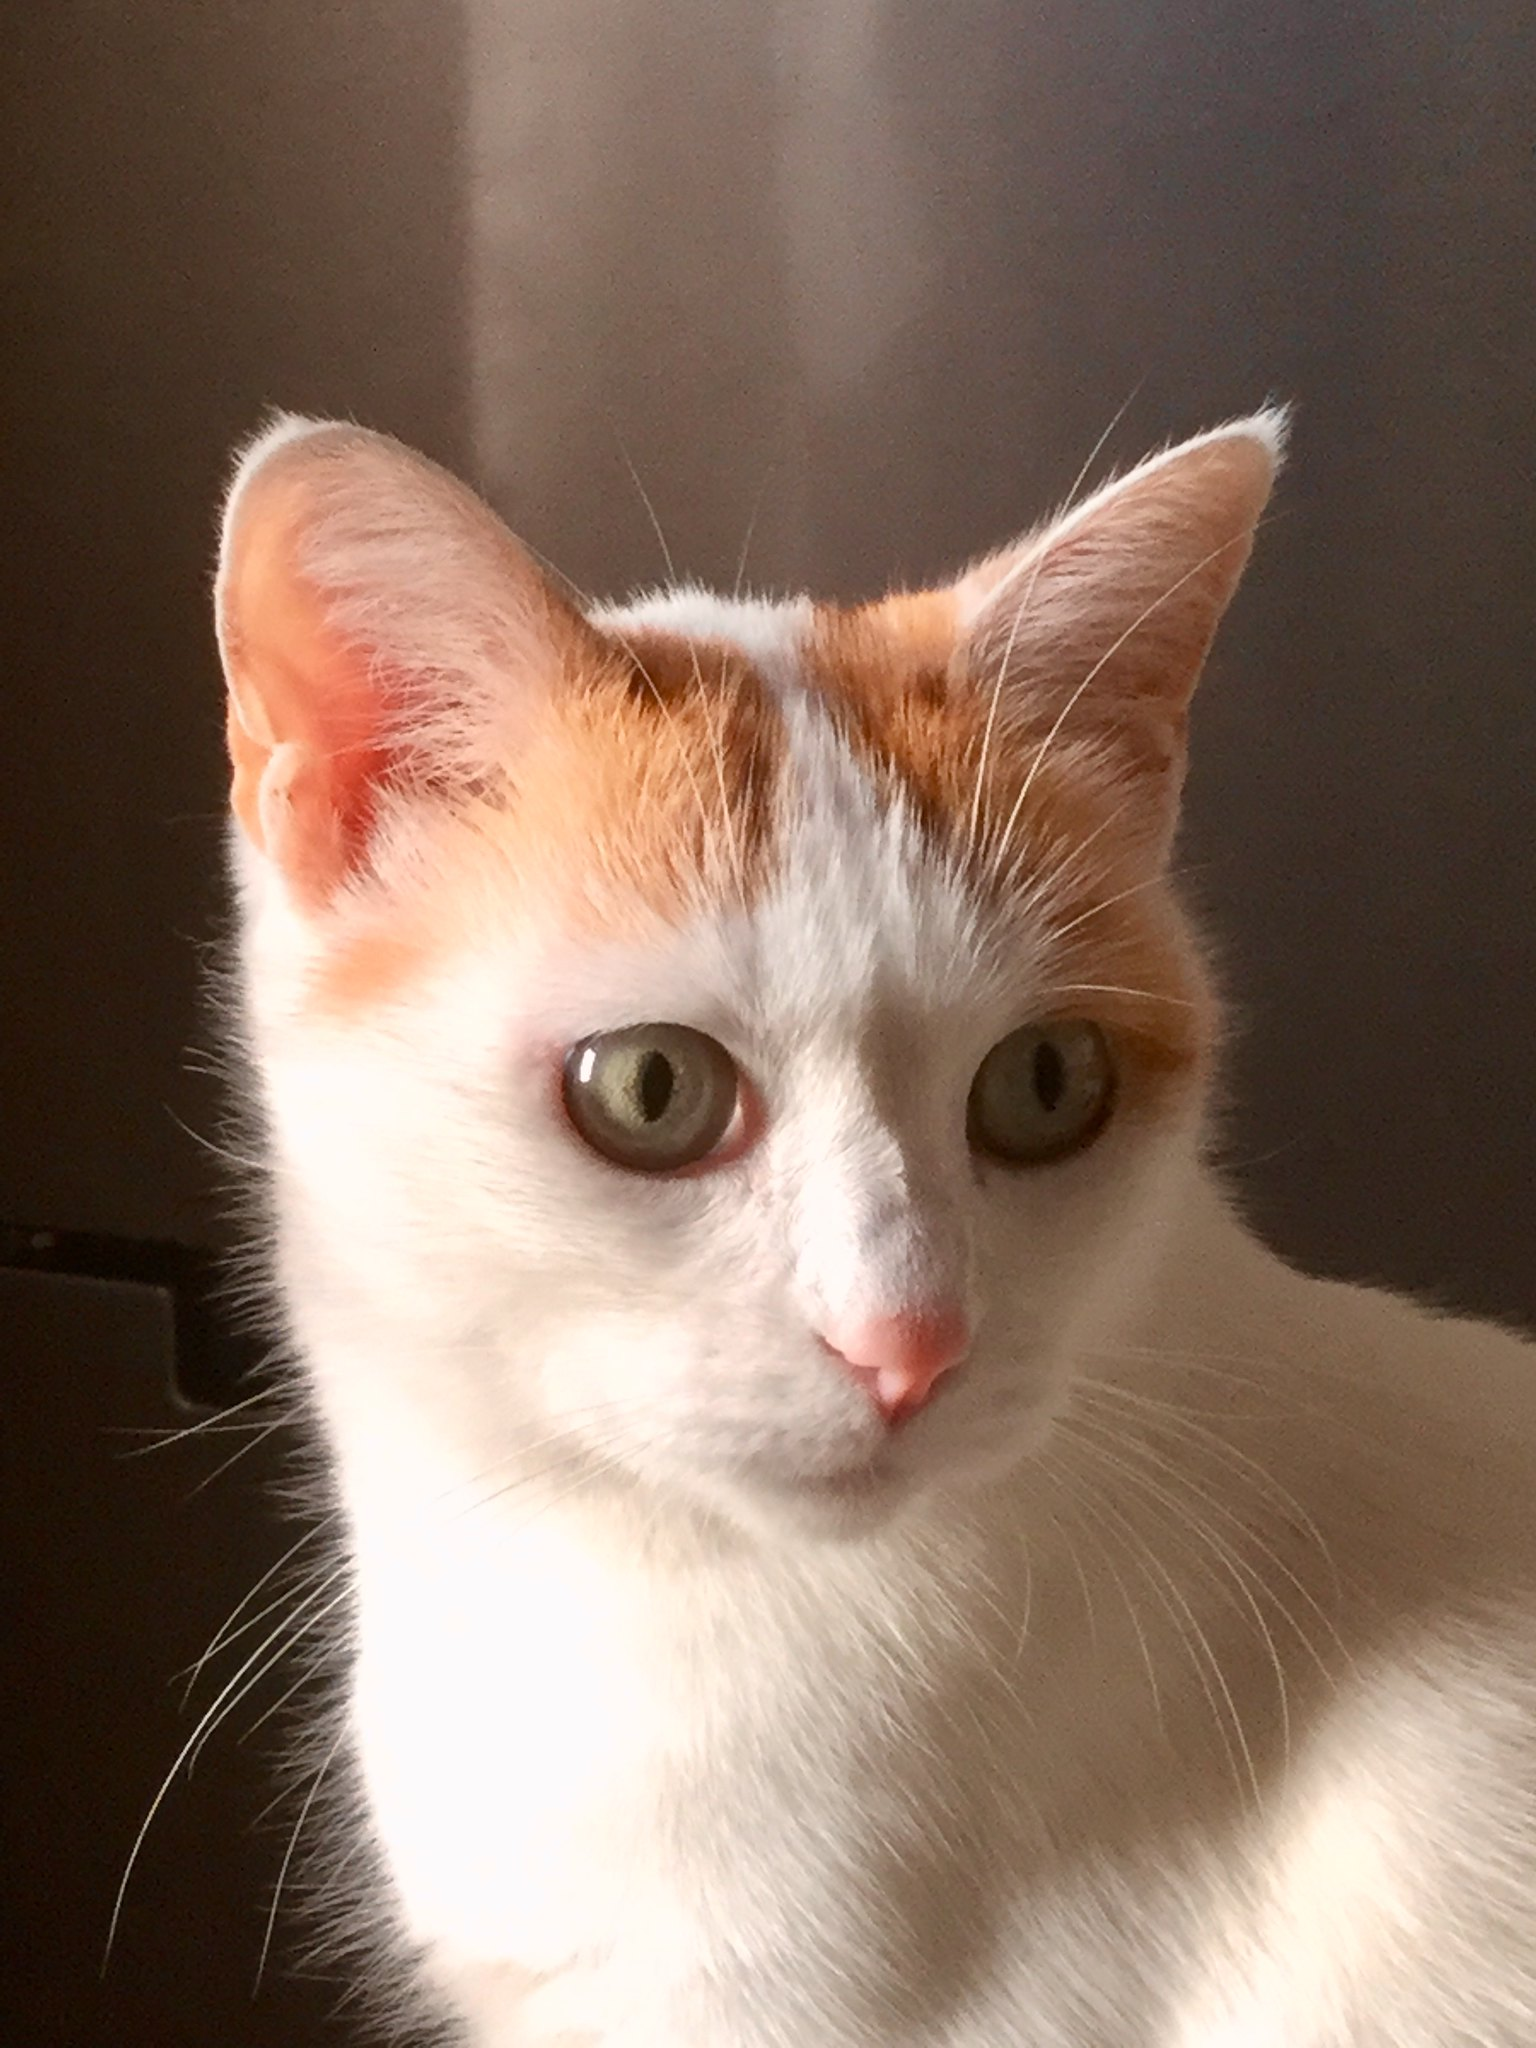cat: (181, 385, 1536, 2048)
